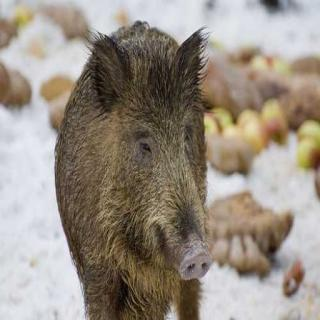Pig: (54, 10, 217, 320)
